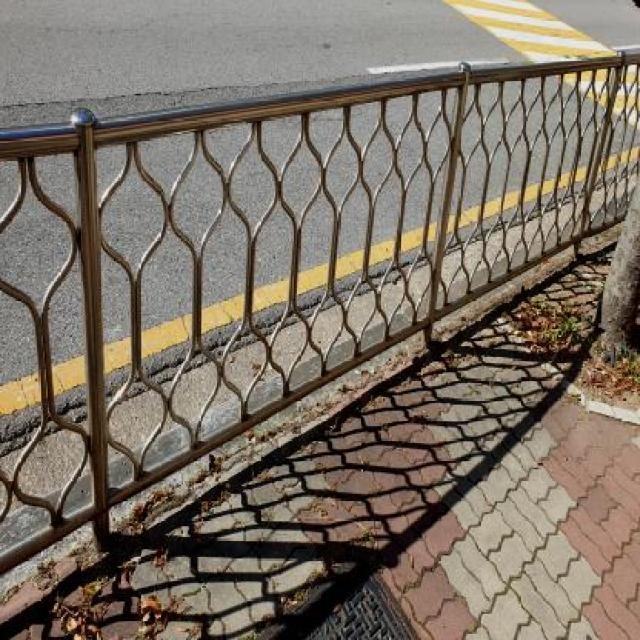fence: (19, 38, 472, 480), (439, 0, 640, 331)
